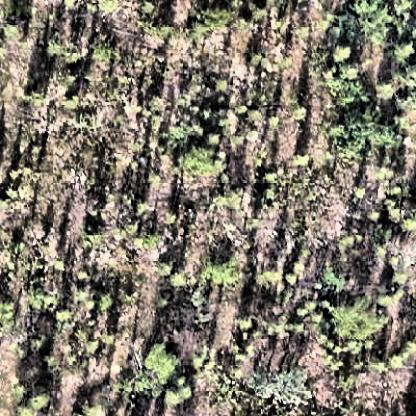tree-top: (249, 360, 318, 407), (338, 108, 398, 154), (325, 62, 376, 111), (330, 295, 380, 340), (141, 341, 182, 381), (179, 142, 219, 181), (389, 177, 416, 233), (355, 3, 396, 39), (42, 35, 88, 65), (201, 255, 245, 286), (193, 7, 240, 32), (165, 377, 194, 411), (1, 13, 28, 46), (324, 13, 355, 41), (390, 41, 416, 67), (29, 383, 52, 409), (396, 85, 416, 114), (335, 41, 358, 65), (249, 2, 268, 26), (377, 79, 396, 103)
